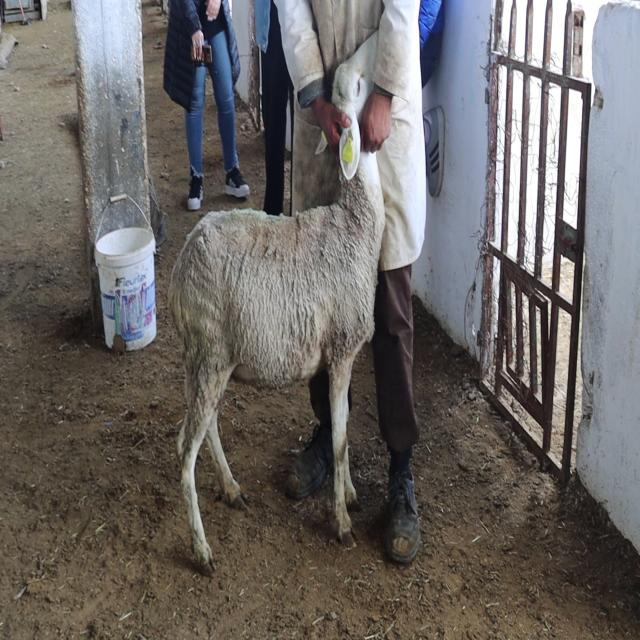Score_1: (168, 38, 384, 567)
